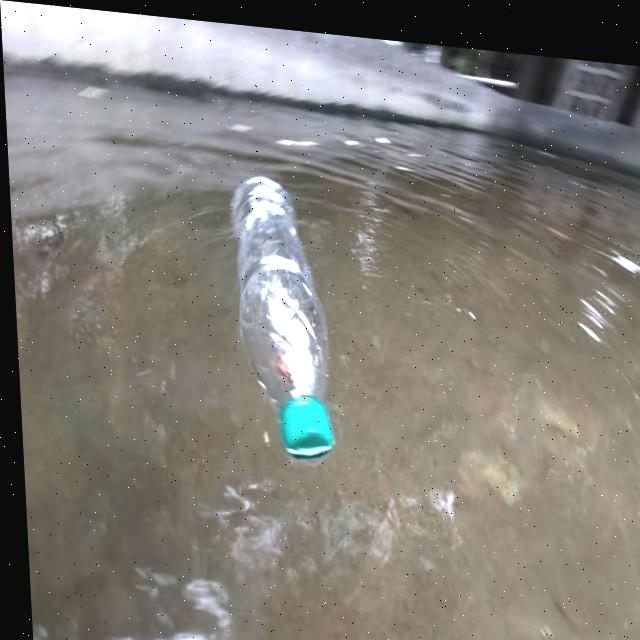waterbottle: (210, 161, 352, 474)
